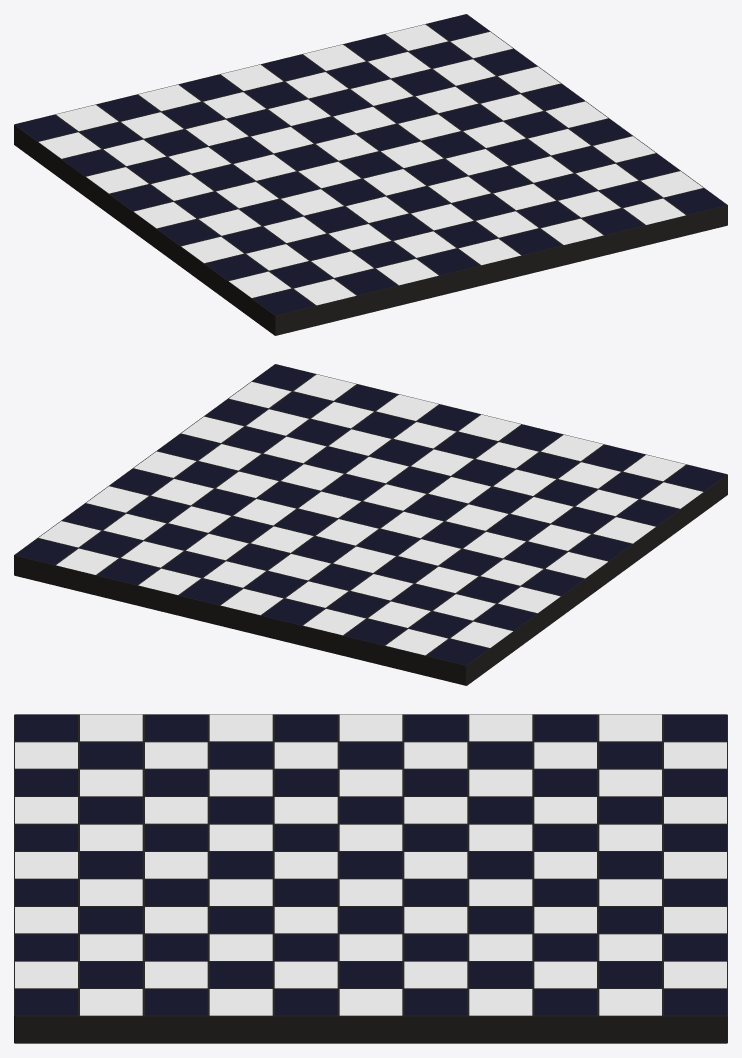
The model's file is Secret ingredients assets.fbx.
3 renders of one model, top to bottom at view 1: azimuth 30°, elevation 25°; view 2: azimuth 150°, elevation 25°; view 3: azimuth 270°, elevation 25°, orthographic. The views are drawn at different scales.
Visible parts, largest first — view 1: Cube.004; view 2: Cube.004; view 3: Cube.004.
Boxes of the visible parts, x1,y1,x2,y2 form: Cube.004: (14,14,727,335); Cube.004: (14,364,727,685); Cube.004: (14,714,727,1043).
Size of the model in its own units: 1220 by 51.81 by 1220.
